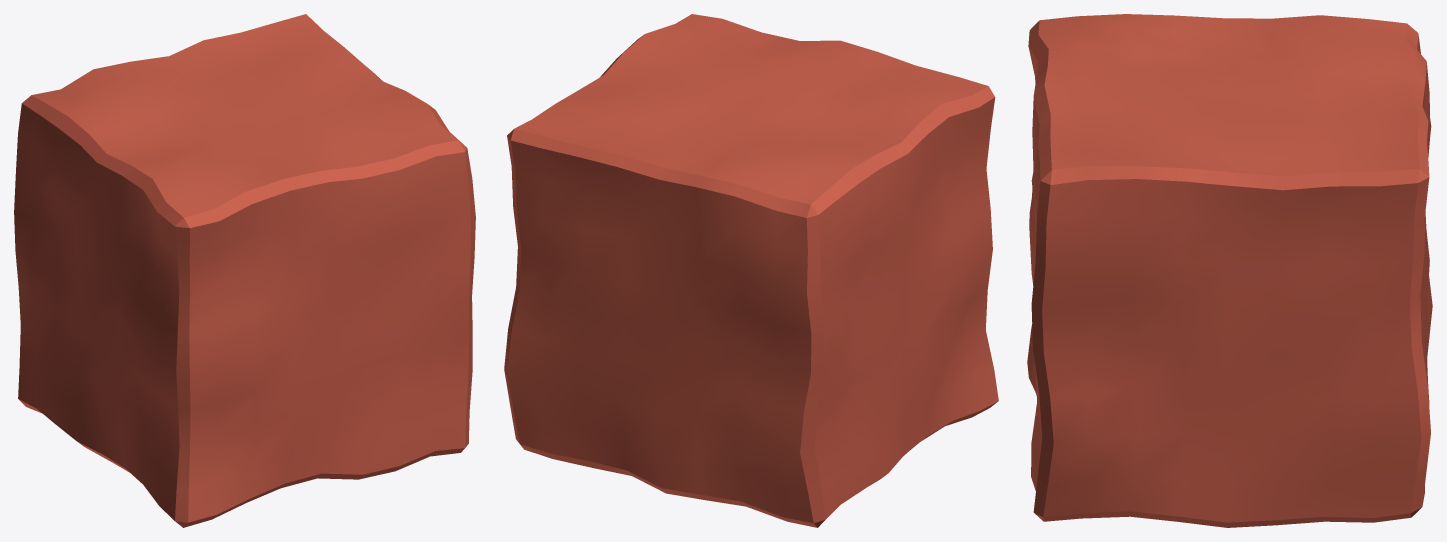
The model's file is Sugar.FBX.
The picture shows the model from 3 angles, left to right: view 1: azimuth 30°, elevation 25°; view 2: azimuth 150°, elevation 25°; view 3: azimuth 270°, elevation 25°; orthographic projection. The views are drawn at different scales.
Visible parts, largest first — view 1: Box131; view 2: Box131; view 3: Box131.
Part boxes in pixels (x1,y1,x2,y2): Box131: [14, 14, 475, 527]; Box131: [504, 14, 998, 527]; Box131: [1027, 14, 1432, 527].
Size of the model in its own units: 417 by 417 by 417.
